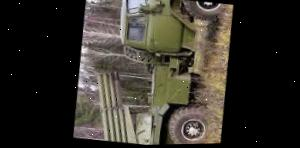rszo: (82, 0, 236, 146)
